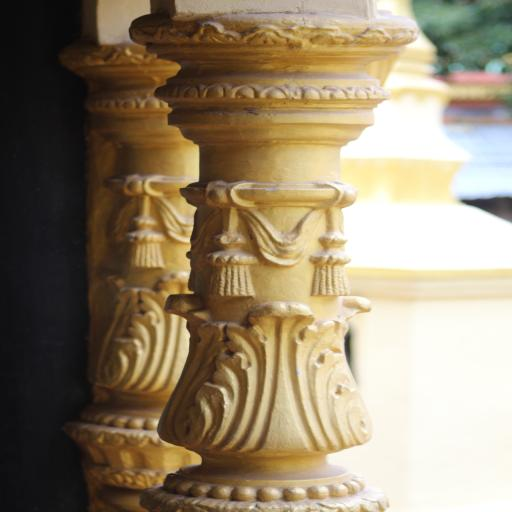la: (170, 296, 370, 460), (100, 276, 184, 414)
